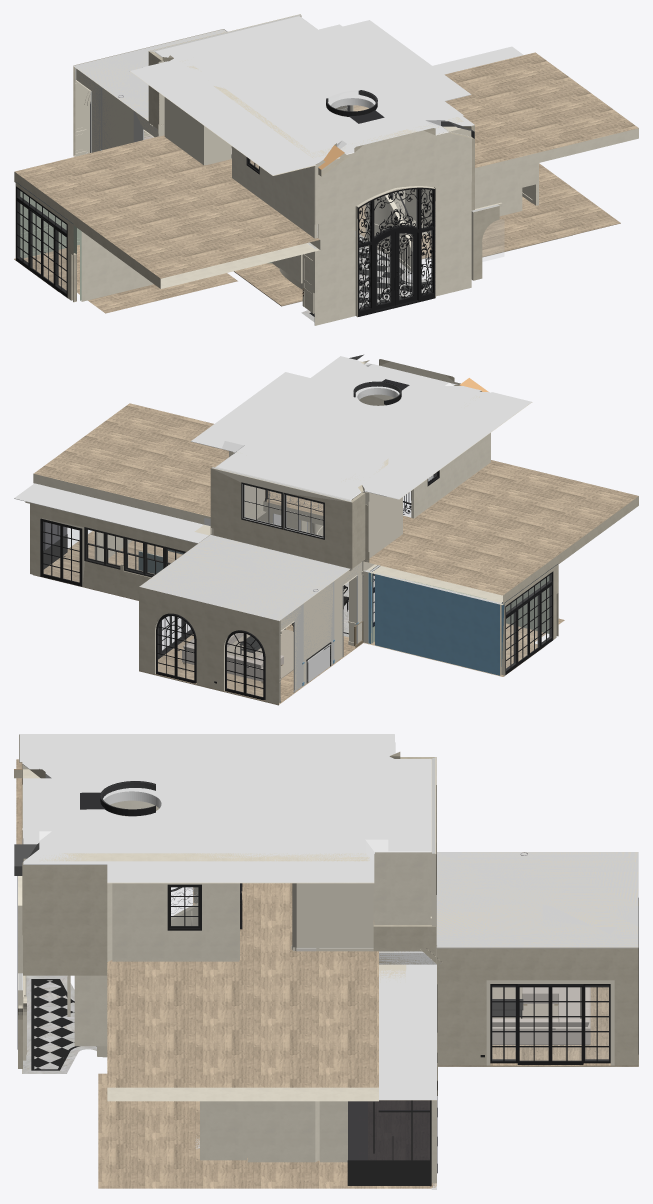
File: family-room-c229d1fa0e28.glb
3 renders of one model, top to bottom at view 1: azimuth 30°, elevation 25°; view 2: azimuth 150°, elevation 25°; view 3: azimuth 270°, elevation 25°, orthographic. The views are drawn at different scales.
Visible parts, largest first — view 1: family-room-look-2575515a05775d9e, family-room-look-e8793759323e04f0, family-room-look-9d91b47435c6fb33, family-room-look-34525a54e63b733b, family-room-look-3b0077416469e01b, family-room-look-d5a4a1b5d3594c04, family-room-look-5f56640b372ec5ce, family-room-look-746250f96522f643, family-room-4a969f5cc1ae3dfe, family-room-look-bce662e26d5a5947, family-room-look-d999b7e09afcf2f4, family-room-9d80b152e3f2ea10 (+30 smaller); view 2: family-room-look-2575515a05775d9e, family-room-look-e8793759323e04f0, family-room-look-9d91b47435c6fb33, family-room-4a969f5cc1ae3dfe, family-room-look-b19b106fc304963c, family-room-look-245f595ae2832e16, family-room-969b861f9850351e, family-room-look-bfb9fa537cd11d1d, family-room-look-9a0e9ee9b2a451d7, family-room-9d80b152e3f2ea10, family-room-look-5f56640b372ec5ce, family-room-50d54560d247b537 (+27 smaller); view 3: family-room-look-2575515a05775d9e, family-room-look-e8793759323e04f0, family-room-look-9d91b47435c6fb33, family-room-4a969f5cc1ae3dfe, family-room-look-3b0077416469e01b, family-room-e706aa16b4547c37, family-room-look-62353aa10fc57f23, family-room-50d54560d247b537, family-room-look-c51ecd664a3b22a3, family-room-look-9a0e9ee9b2a451d7, family-room-look-5f56640b372ec5ce, family-room-look-69af8f587252f9fa (+28 smaller).
Part boxes in pixels (x1,y1,x2,y2): family-room-look-2575515a05775d9e: (14,52,638,288); family-room-look-e8793759323e04f0: (180,23,463,158); family-room-look-9d91b47435c6fb33: (130,16,474,175); family-room-look-34525a54e63b733b: (314,126,471,244); family-room-look-3b0077416469e01b: (14,163,620,306); family-room-look-d5a4a1b5d3594c04: (314,208,471,325); family-room-look-5f56640b372ec5ce: (254,81,404,139); family-room-look-746250f96522f643: (232,146,317,238); family-room-4a969f5cc1ae3dfe: (73,29,226,120); family-room-look-bce662e26d5a5947: (357,187,435,316); family-room-look-d999b7e09afcf2f4: (80,230,153,301); family-room-9d80b152e3f2ea10: (76,69,158,152); family-room-look-2575515a05775d9e: (33,403,638,604); family-room-look-e8793759323e04f0: (222,356,481,481); family-room-look-9d91b47435c6fb33: (191,362,532,500); family-room-4a969f5cc1ae3dfe: (139,534,349,621); family-room-look-b19b106fc304963c: (375,573,501,675); family-room-look-245f595ae2832e16: (210,467,352,568); family-room-969b861f9850351e: (139,587,280,704); family-room-look-bfb9fa537cd11d1d: (30,502,197,600); family-room-look-9a0e9ee9b2a451d7: (14,483,208,543); family-room-9d80b152e3f2ea10: (280,562,362,690); family-room-look-5f56640b372ec5ce: (324,377,464,430); family-room-50d54560d247b537: (139,534,343,620); family-room-look-2575515a05775d9e: (16,759,378,1101); family-room-look-e8793759323e04f0: (39,756,388,861); family-room-look-9d91b47435c6fb33: (19,734,431,883); family-room-4a969f5cc1ae3dfe: (436,852,638,948); family-room-look-3b0077416469e01b: (98,920,436,1188); family-room-e706aa16b4547c37: (437,948,633,1065); family-room-look-62353aa10fc57f23: (23,865,112,975); family-room-50d54560d247b537: (436,852,638,948); family-room-look-c51ecd664a3b22a3: (112,883,239,961); family-room-look-9a0e9ee9b2a451d7: (379,964,436,1100); family-room-look-5f56640b372ec5ce: (83,756,196,825); family-room-look-69af8f587252f9fa: (292,883,373,947).
Size of the model in its own units: 21.02 by 7.02 by 16.88.
Materials: 63 (12 with a texture image).
